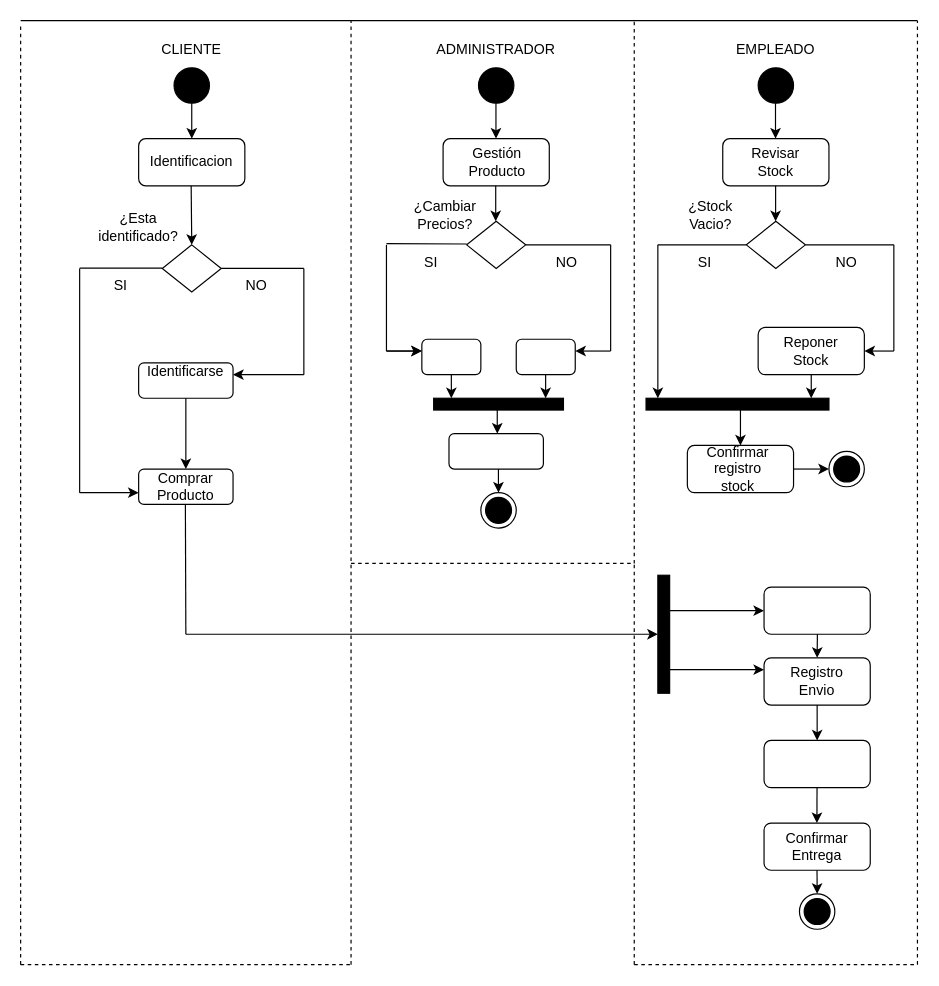
The diagram is 939 pixels wide and 986 high, and some of its shapes have lost their labels. The centre of each missing label's shape, as x and y in pixels:
"Cambiar Precio" goes at [451,356].
"Cobrar Envio" goes at [816,610].
"Dejar Igual" goes at [545,356].
"Entrega Pedidos" goes at [816,763].
"Resgistrar Cambios" goes at [495,450].
